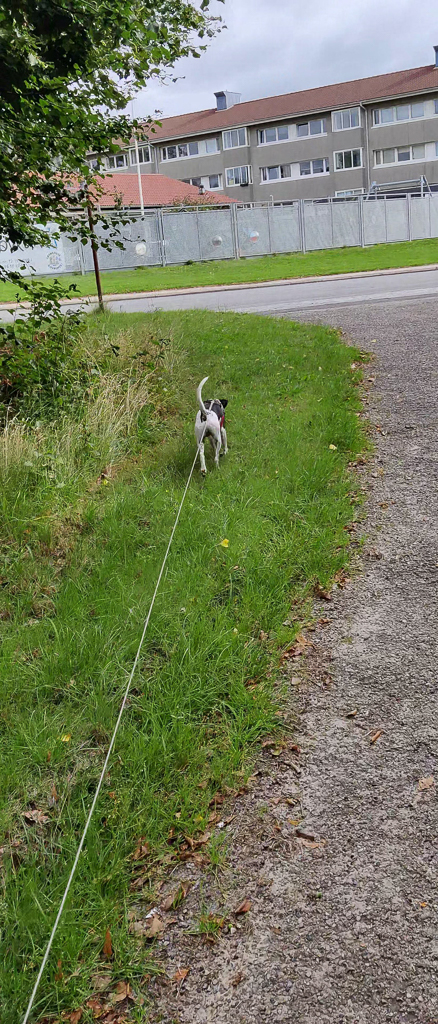Dog: (182, 369, 243, 483)
